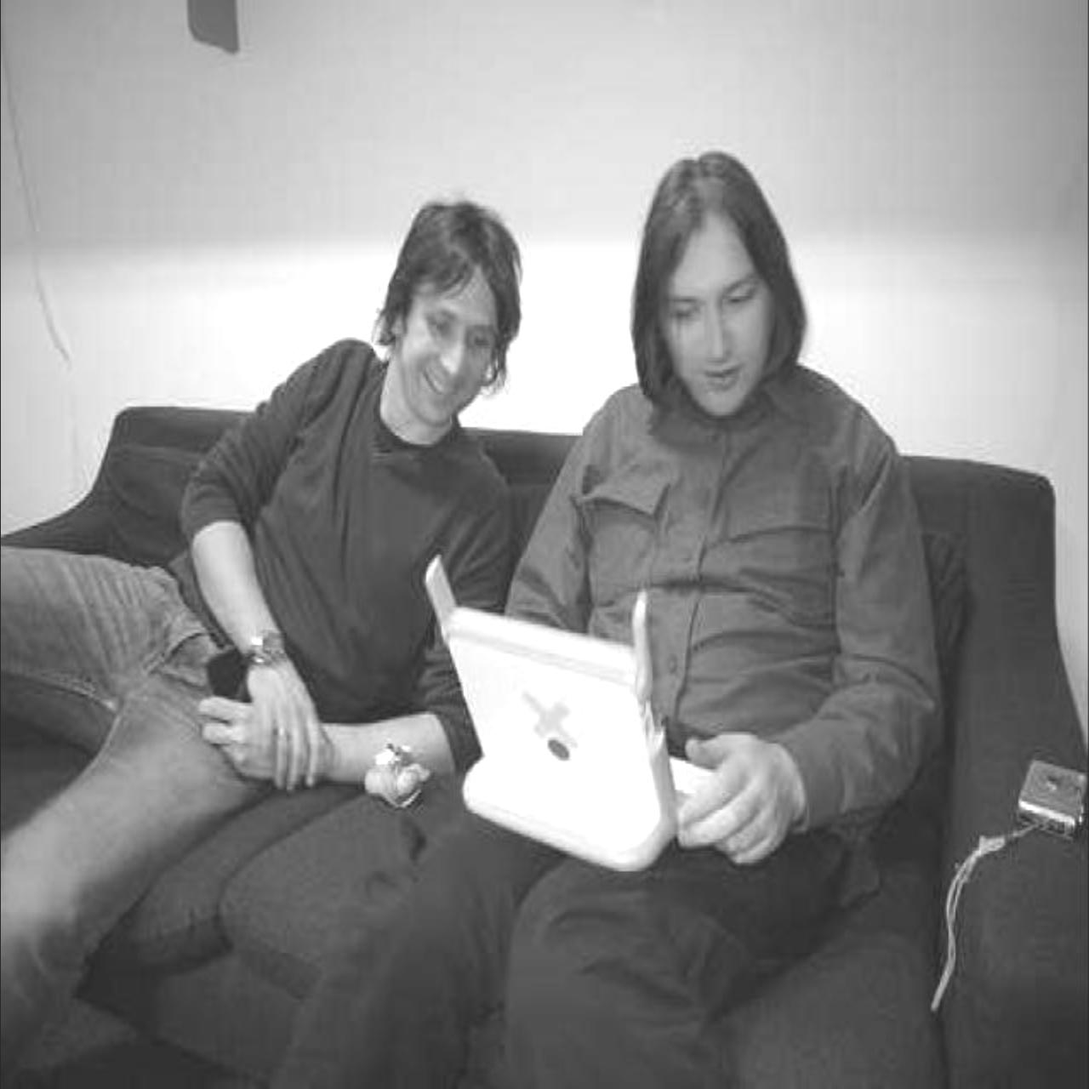laptop: (425, 568, 684, 878)
